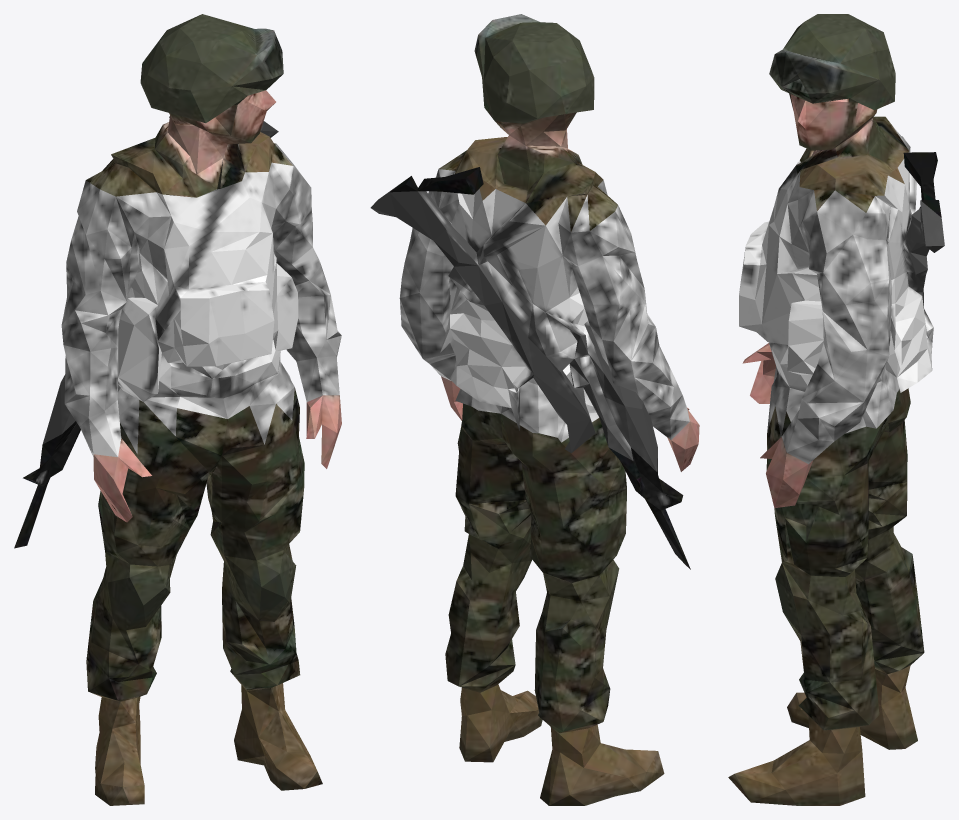
The model's file is realistic-cc0.95bf4458adc9.marine.glb.
3 renders of one model, left to right at view 1: azimuth 30°, elevation 25°; view 2: azimuth 150°, elevation 25°; view 3: azimuth 270°, elevation 25°, orthographic.
Visible parts, largest first — view 1: marine; view 2: marine; view 3: marine.
Part boxes in pixels (x1=…): marine: x1=14, y1=14, x2=341, y2=805; marine: x1=370, y1=14, x2=699, y2=805; marine: x1=728, y1=14, x2=944, y2=805.
Size of the model in its own units: 0.7615 by 1.8 by 0.4737.
2 materials, 2 textured.
